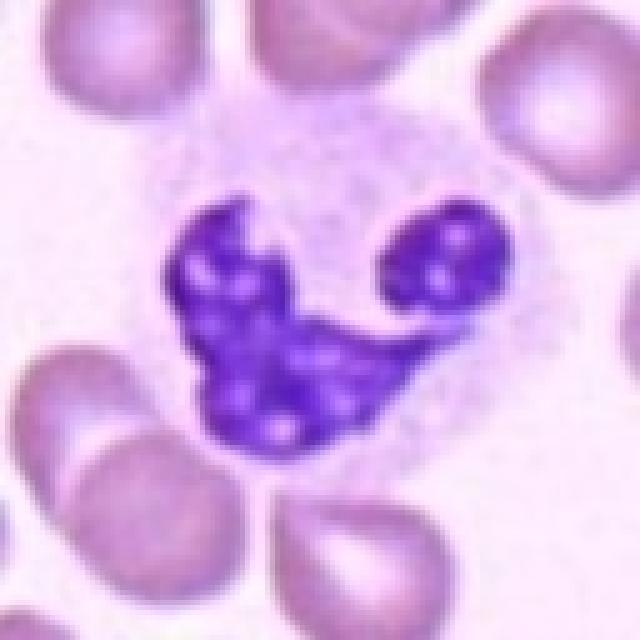neutro: (105, 102, 519, 548)
